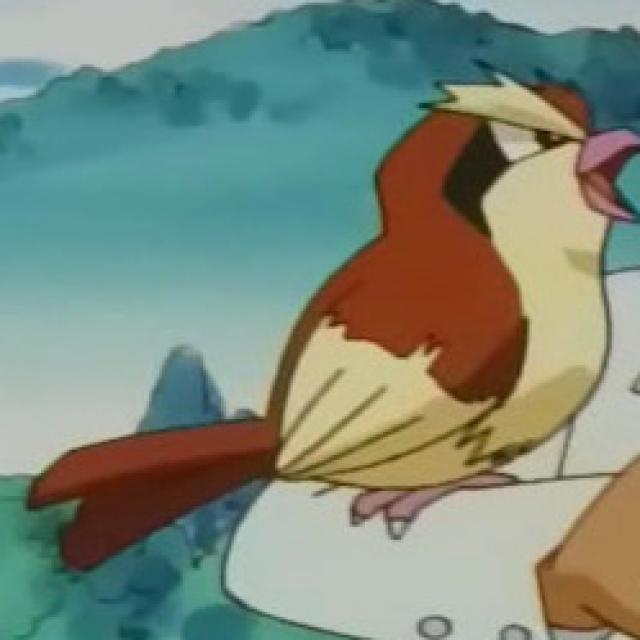Pidgey: (259, 59, 640, 506)
